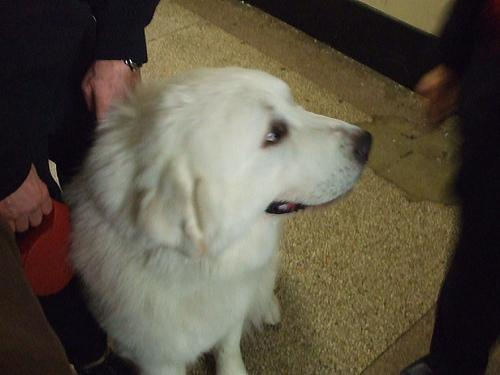Great_Pyrenees: (67, 63, 377, 373)
